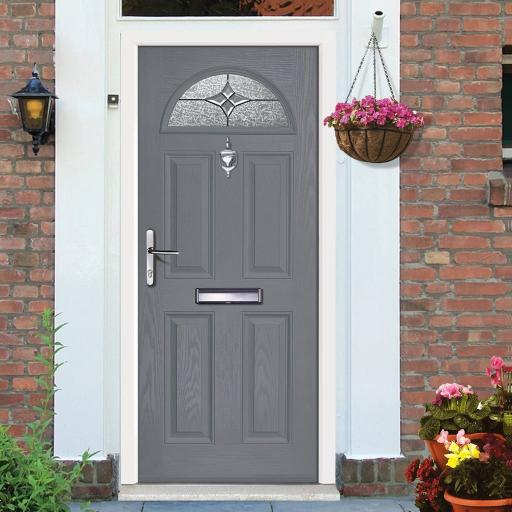Door: (119, 30, 337, 486)
